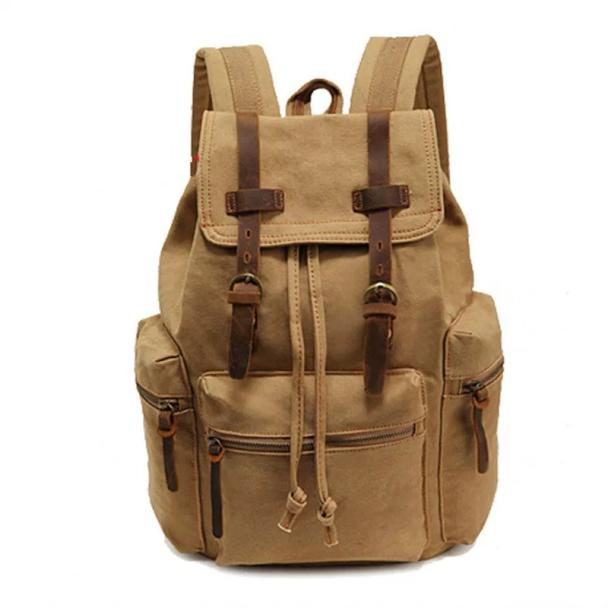Tas: (137, 109, 492, 555)
